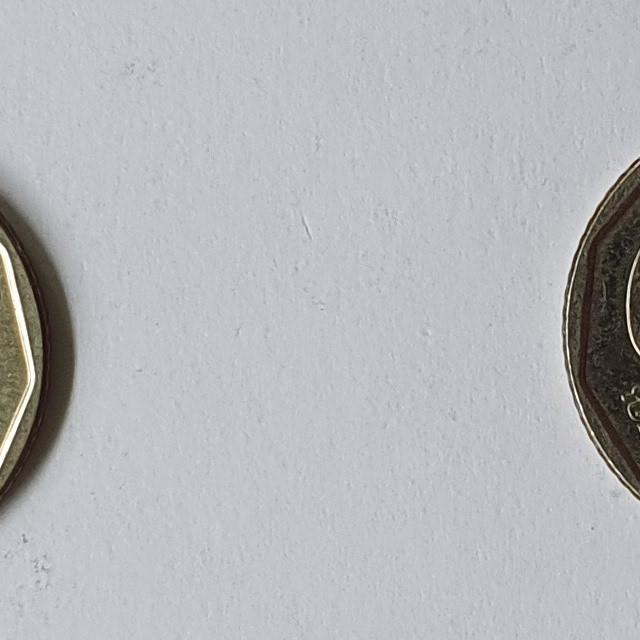5 Bath: (557, 148, 640, 514), (1, 192, 61, 514)
